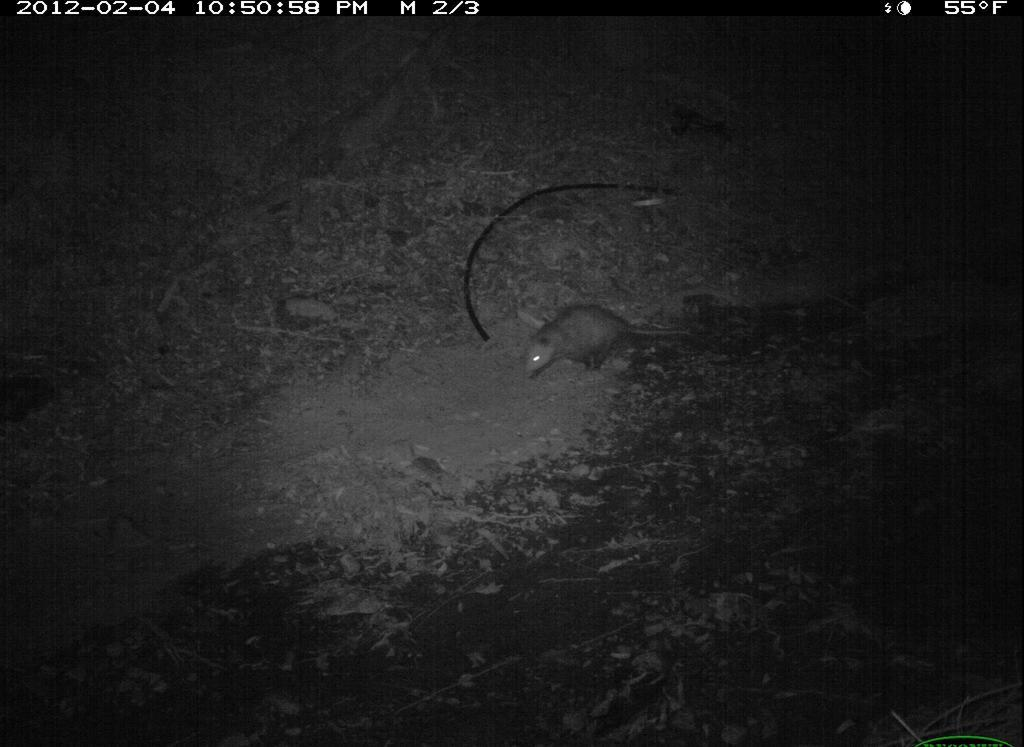opossum: (520, 305, 702, 381)
